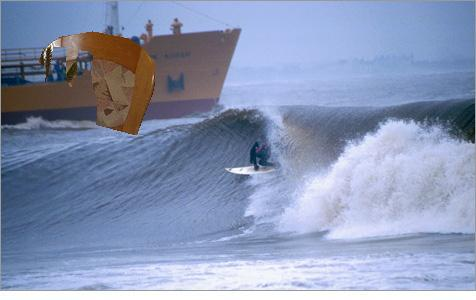tampered: (39, 32, 155, 135)
